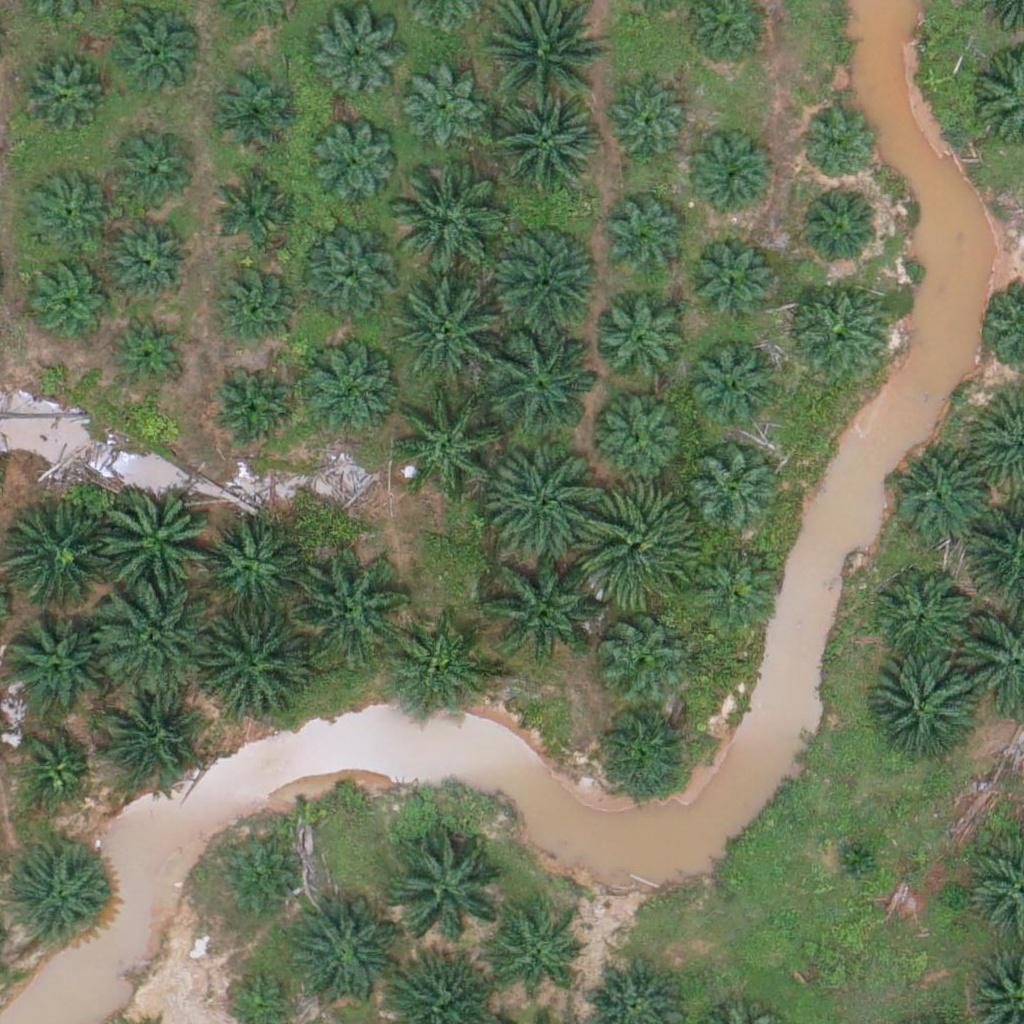Kelapa_Sawit: (193, 608, 306, 722), (482, 223, 595, 337), (864, 657, 977, 770), (390, 826, 503, 939), (284, 899, 397, 1012), (581, 487, 694, 600), (486, 321, 599, 434), (493, 448, 605, 562), (482, 550, 594, 663), (293, 550, 405, 663), (101, 583, 213, 696), (487, 93, 599, 206), (394, 387, 506, 500), (394, 278, 506, 391), (390, 166, 502, 279), (100, 487, 212, 600), (871, 567, 971, 668), (1, 613, 101, 714), (790, 279, 890, 380), (682, 340, 782, 441), (299, 233, 399, 334), (200, 514, 300, 615), (890, 447, 990, 548), (592, 702, 692, 802), (389, 623, 489, 723), (99, 688, 199, 788), (9, 848, 109, 948), (592, 386, 692, 486), (596, 290, 696, 390), (298, 339, 398, 439), (596, 609, 684, 697), (212, 835, 300, 923), (693, 544, 781, 632), (602, 193, 690, 281), (311, 19, 399, 107), (311, 120, 399, 208), (13, 50, 101, 138), (111, 5, 199, 93), (210, 368, 298, 456), (494, 916, 581, 1004), (601, 79, 688, 167), (690, 136, 777, 224), (797, 182, 884, 270), (691, 452, 778, 540), (686, 231, 773, 319), (28, 254, 115, 342), (24, 169, 111, 257), (109, 130, 196, 218), (110, 214, 197, 302), (208, 258, 295, 346), (216, 161, 303, 249), (208, 64, 295, 152), (400, 65, 487, 153), (111, 311, 186, 387), (800, 109, 875, 185), (16, 730, 91, 805), (829, 832, 879, 883)
